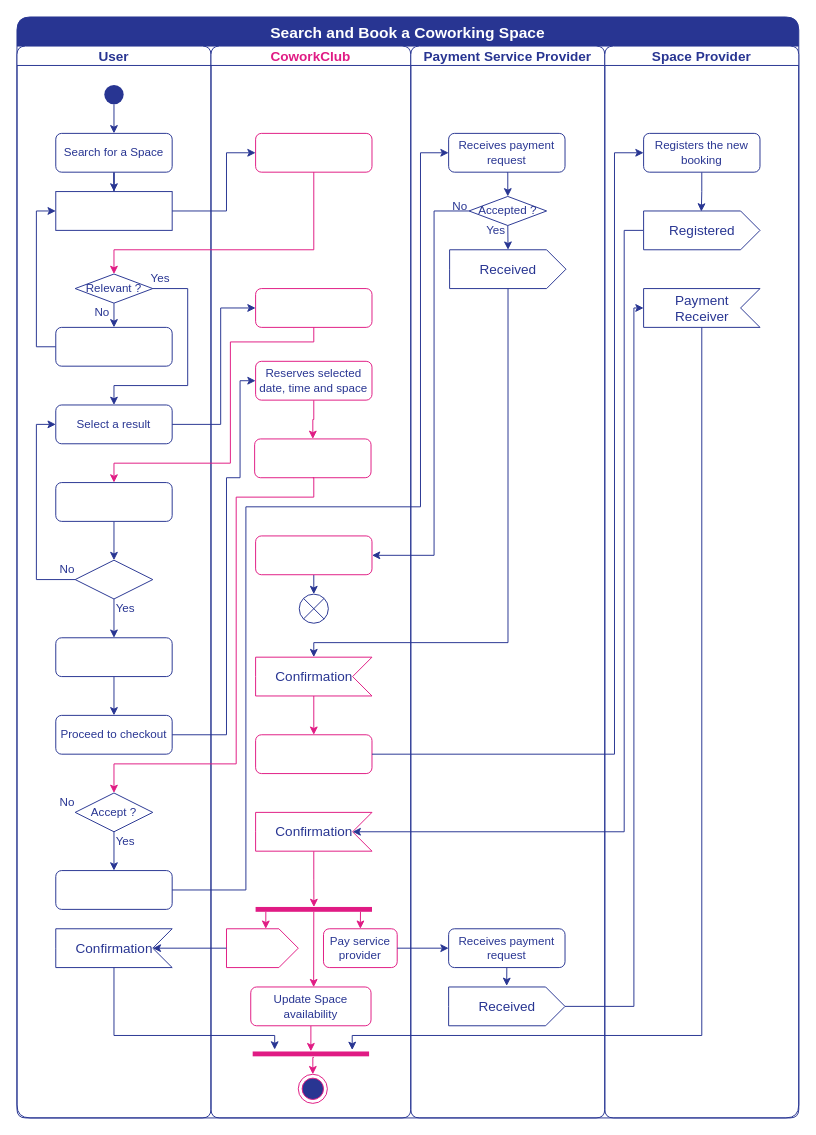
Image size: 816x1135. Some labels were removed from this diagram. The centre of each missing label's shape, as x and y in pixels:
"Applying filters" belongs at [113,346].
"Booked" belongs at [262,948].
"Date, time and space made available" belongs at [313,555].
"Informs of booking info" belongs at [313,754].
"Observe information about space" belongs at [113,501].
"Pays" belongs at [113,889].
"Query" belongs at [113,210].
"Retrieve information about space" belongs at [313,307].
"Retrieve matching results" belongs at [313,152].
"Retrieve payment information" belongs at [312,458].
"Satisfactory ?" belongs at [113,579].
"Select booking specifications" belongs at [113,657].
